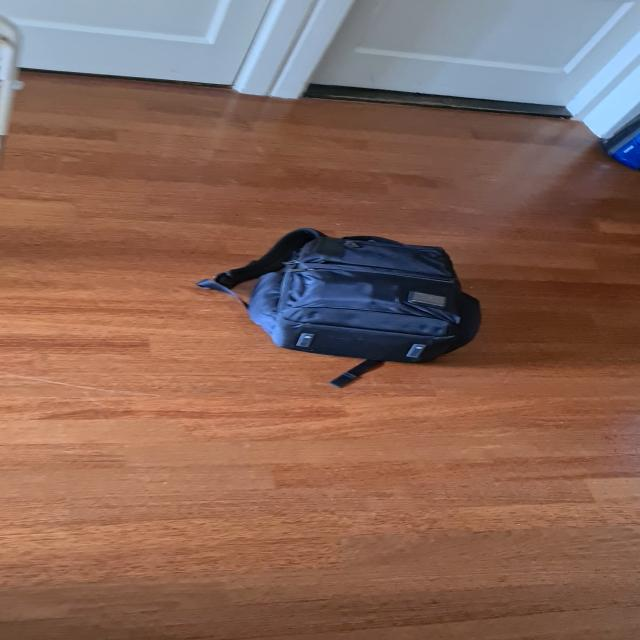backpack: (225, 222, 491, 368)
